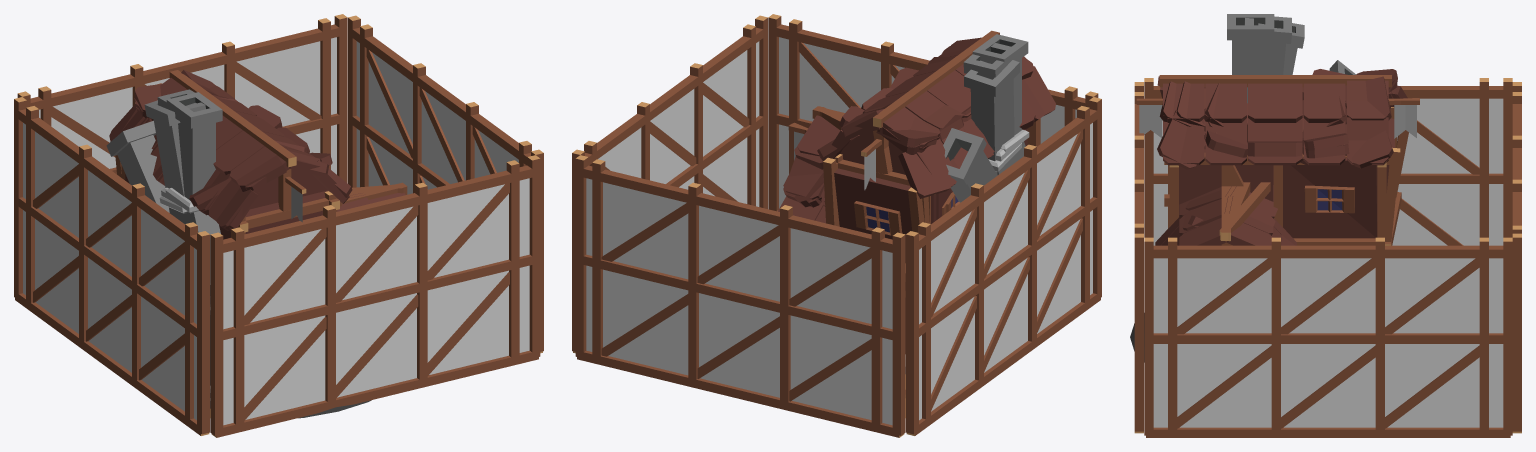
File: House 3.fbx
The picture shows the model from 3 angles, left to right: view 1: azimuth 30°, elevation 25°; view 2: azimuth 150°, elevation 25°; view 3: azimuth 270°, elevation 25°; orthographic projection. The views are drawn at different scales.
Visible parts, largest first — view 1: Scaffold, Roof, Destrution_phase_3, First_Floor, Destrution_phase_2, Carcass, Destrution_phase_1, Second_Floor; view 2: Scaffold, Destrution_phase_2, Destrution_phase_3, Roof, Destrution_phase_1, Carcass, First_Floor, Second_Floor; view 3: Scaffold, Roof, Destrution_phase_3, Destrution_phase_2, Destrution_phase_1, Carcass, First_Floor, Second_Floor, Flag_2.
Part boxes in pixels (x1,y1,x2,y2): Scaffold: (14, 14, 543, 437); Roof: (123, 78, 405, 231); Destrution_phase_3: (106, 70, 403, 306); First_Floor: (165, 92, 222, 397); Destrution_phase_2: (121, 98, 406, 230); Carcass: (169, 70, 407, 234); Destrution_phase_1: (135, 82, 406, 408); Second_Floor: (219, 169, 327, 239); Scaffold: (572, 14, 1101, 437); Destrution_phase_2: (783, 37, 1055, 397); Destrution_phase_3: (791, 43, 1035, 281); Roof: (778, 49, 1045, 223); Destrution_phase_1: (783, 43, 1024, 212); Carcass: (812, 30, 1040, 297); First_Floor: (972, 34, 1029, 170); Second_Floor: (840, 129, 1027, 207); Scaffold: (1134, 78, 1521, 437); Roof: (1155, 83, 1388, 245); Destrution_phase_3: (1157, 60, 1408, 245); Destrution_phase_2: (1157, 23, 1400, 245); Destrution_phase_1: (1182, 16, 1419, 245); Carcass: (1159, 75, 1391, 245); First_Floor: (1219, 14, 1274, 245); Second_Floor: (1179, 122, 1346, 216); Flag_2: (1139, 105, 1161, 137).
Size of the model in its own units: 4.1 by 3.26 by 4.15.
